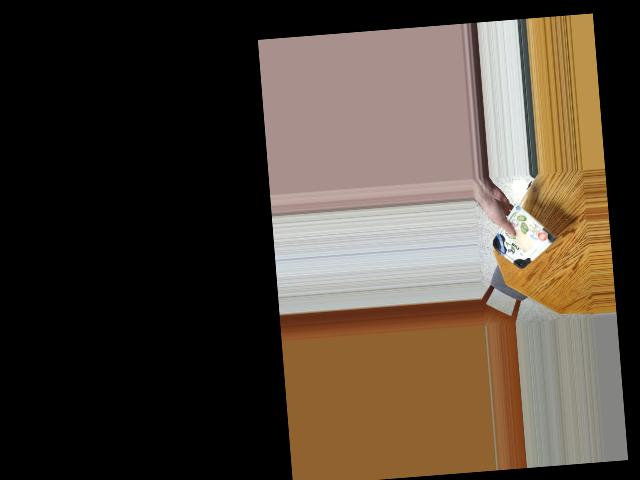cheese: (490, 213, 549, 265)
